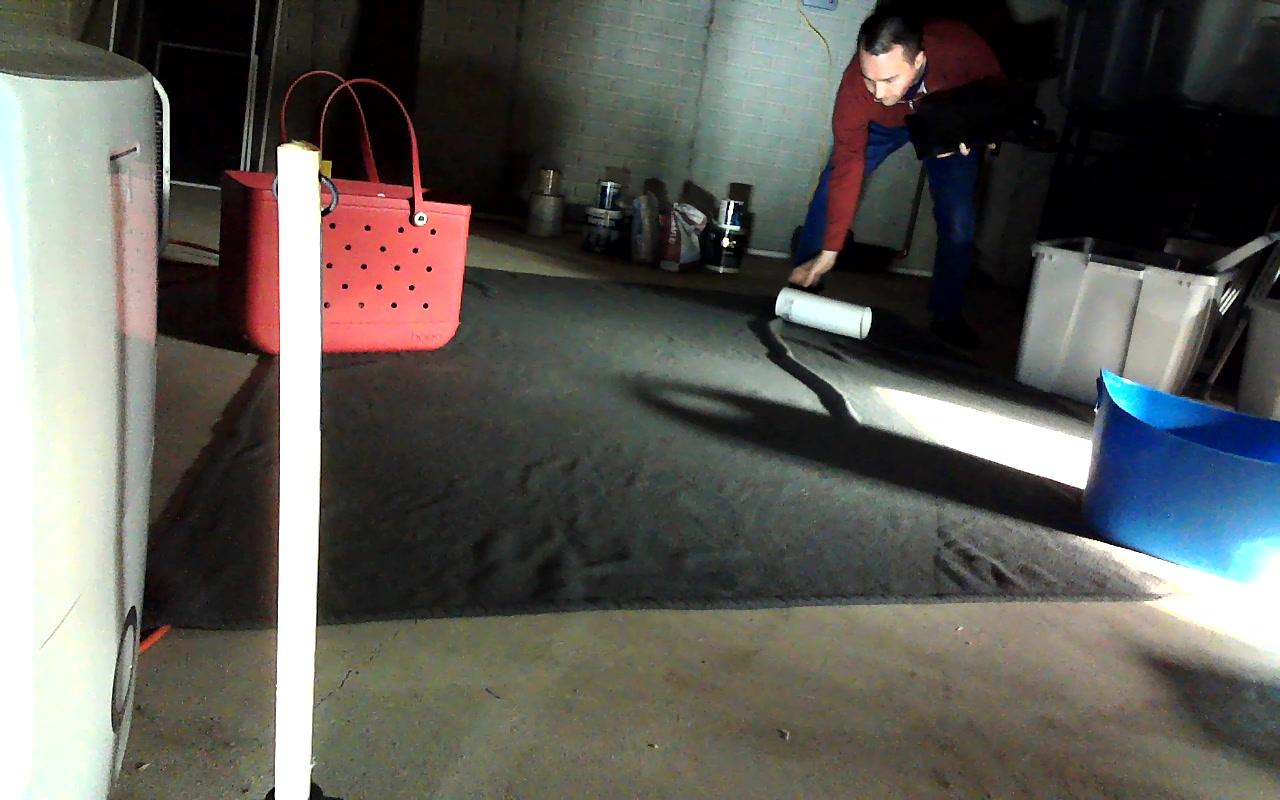coral: (775, 286, 871, 339)
